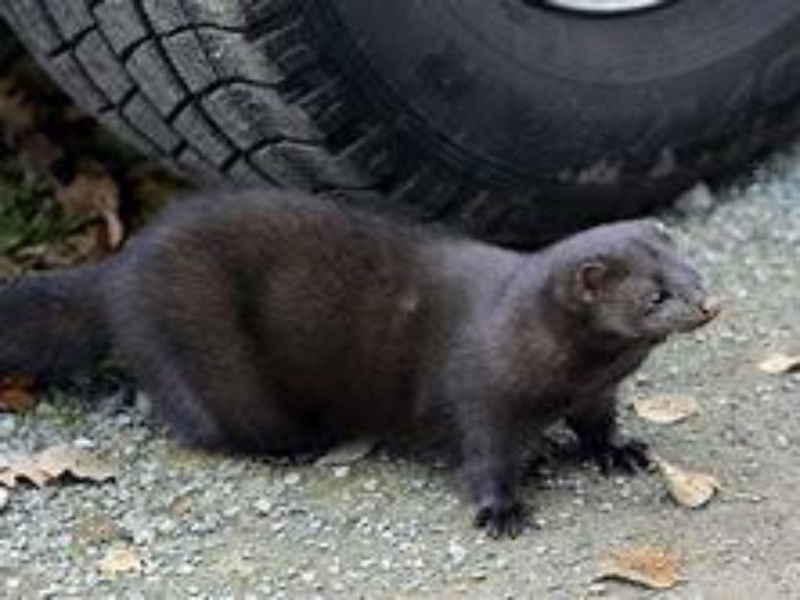minkish: (1, 186, 722, 551)
